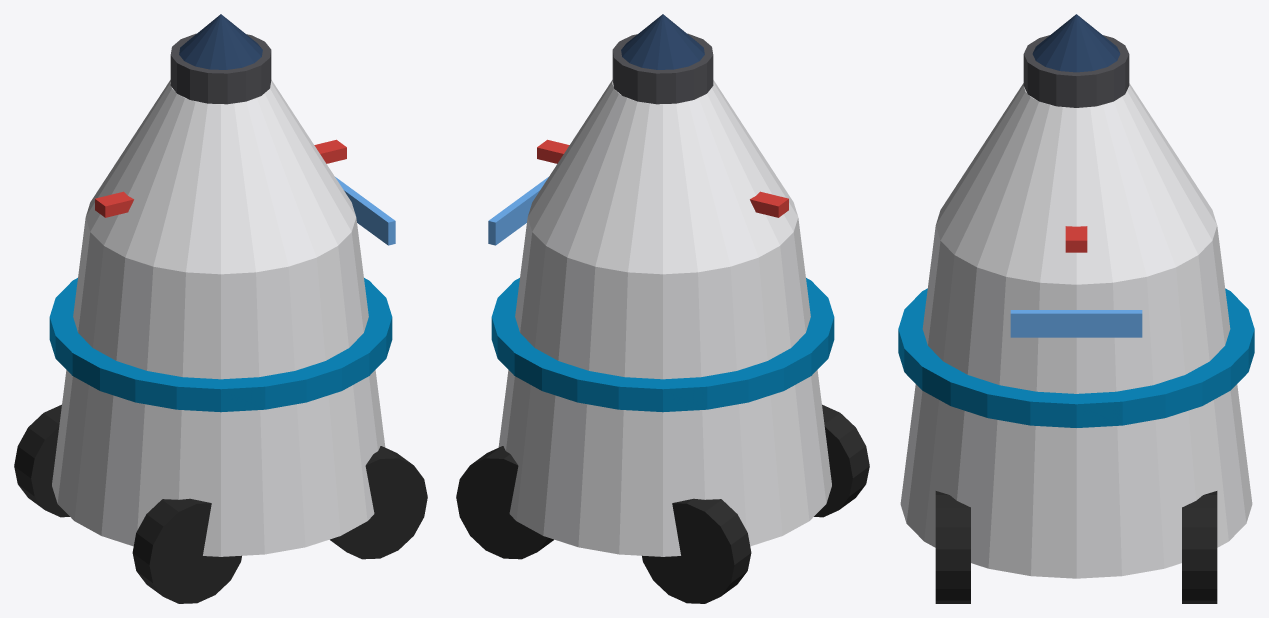
The model's file is SM_Prop_RobotGuard.glb.
3 renders of one model, left to right at view 1: azimuth 30°, elevation 25°; view 2: azimuth 150°, elevation 25°; view 3: azimuth 270°, elevation 25°, orthographic. The views are drawn at different scales.
Visible parts, largest first — view 1: SM_Prop_RobotGuard; view 2: SM_Prop_RobotGuard; view 3: SM_Prop_RobotGuard.
Boxes of the visible parts, x1,y1,x2,y2 form: SM_Prop_RobotGuard: (14, 14, 427, 603); SM_Prop_RobotGuard: (456, 14, 869, 603); SM_Prop_RobotGuard: (898, 14, 1254, 603).
Size of the model in its own units: 0.81 by 1.35 by 0.81.
